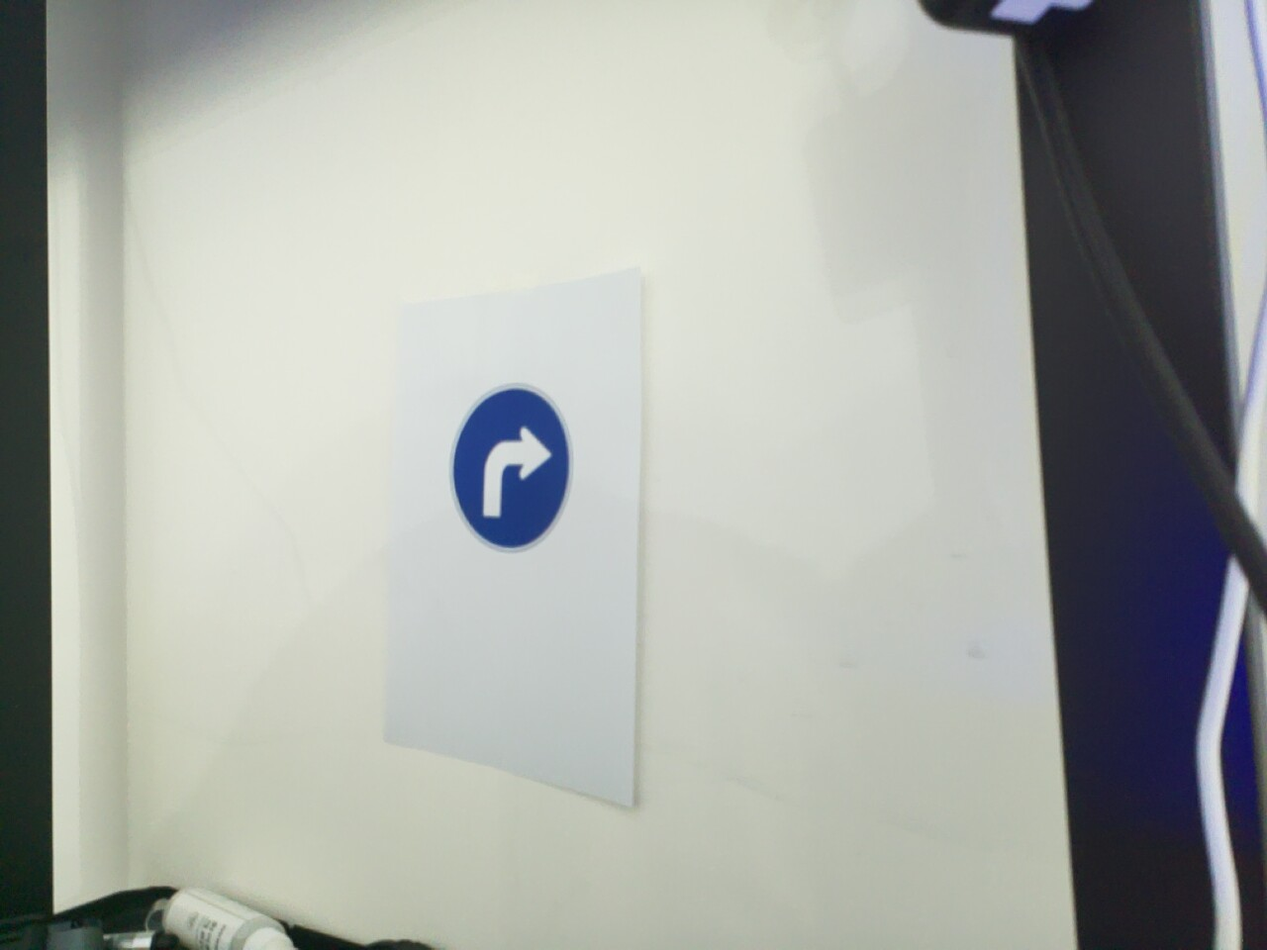right_turn: (447, 382, 575, 555)
